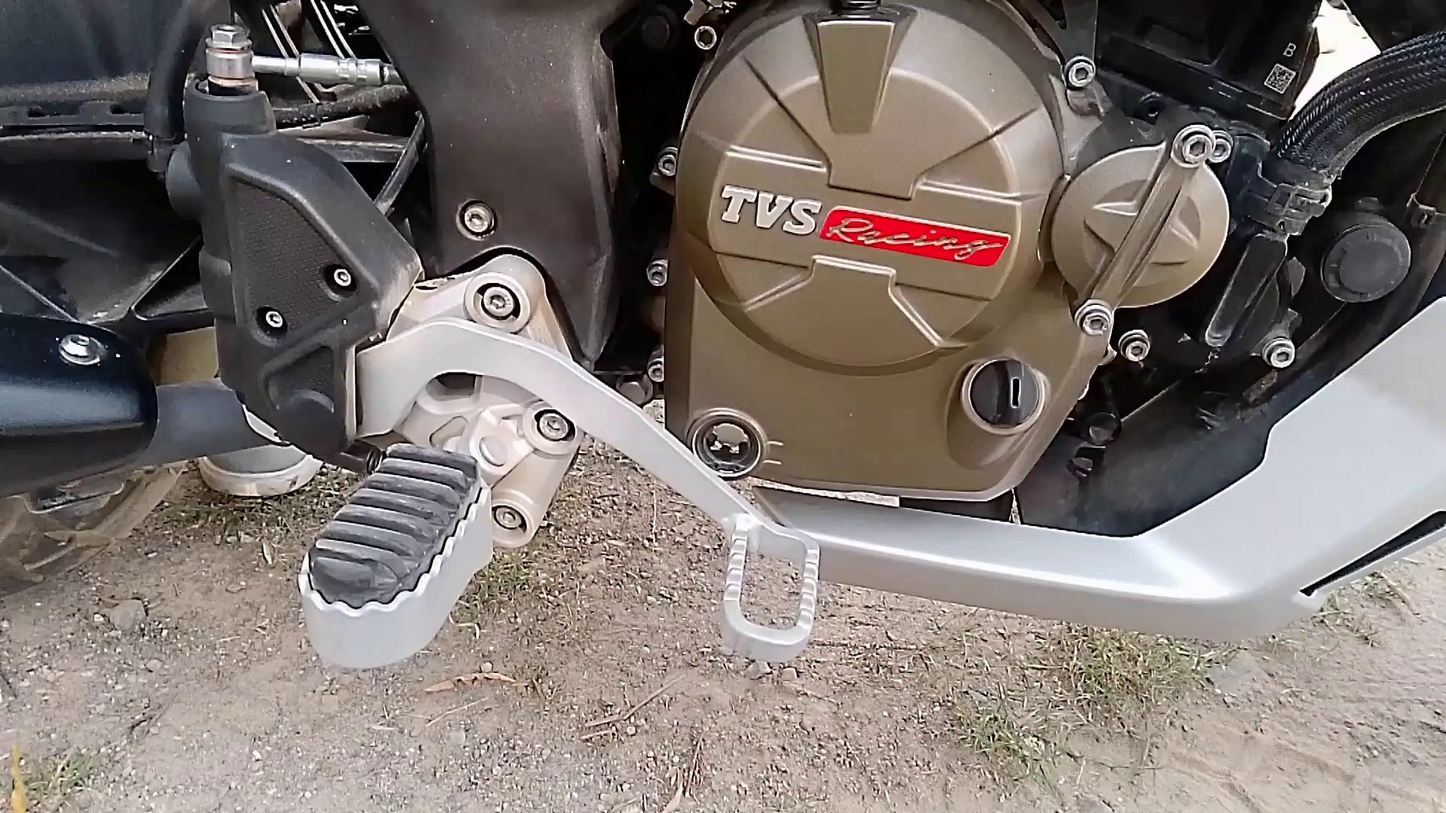bike-engine: (662, 0, 1238, 501)
bike-engine-level: (692, 409, 760, 481)
bike-oil-cap: (950, 356, 1045, 462)
